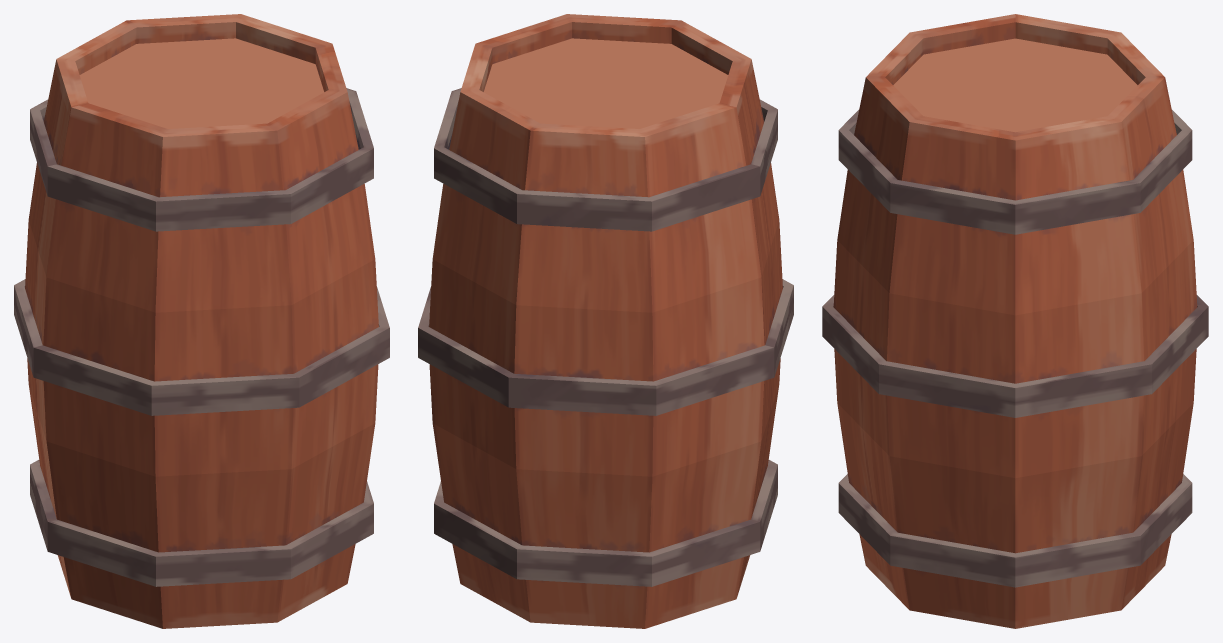
File: barrel_low.fbx
3 views of the same model, side by side, from view 1: azimuth 30°, elevation 25°; view 2: azimuth 150°, elevation 25°; view 3: azimuth 270°, elevation 25° (orthographic).
Visible parts, largest first — view 1: barrel_low; view 2: barrel_low; view 3: barrel_low.
Part boxes in pixels (x1=…): barrel_low: x1=14, y1=14, x2=389, y2=628; barrel_low: x1=418, y1=14, x2=793, y2=628; barrel_low: x1=822, y1=14, x2=1208, y2=628.
Bounding box in the file's own units: 2.58 × 3.6 × 2.58.
1 material, 1 textured.
